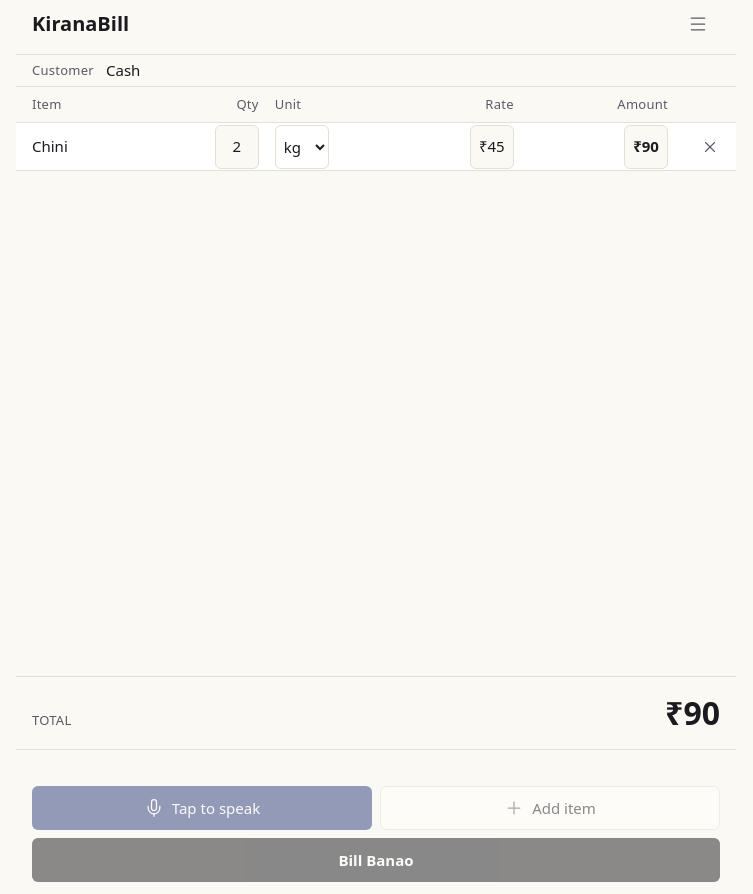
Test: KB-303 - editing a line › qty: tap, type, Enter - the amount and TOTAL follow (2 kilo chini -> 3 kg = ₹135)
Click the button named "Chini quantity" at [237, 146], box [215,124,259,168]
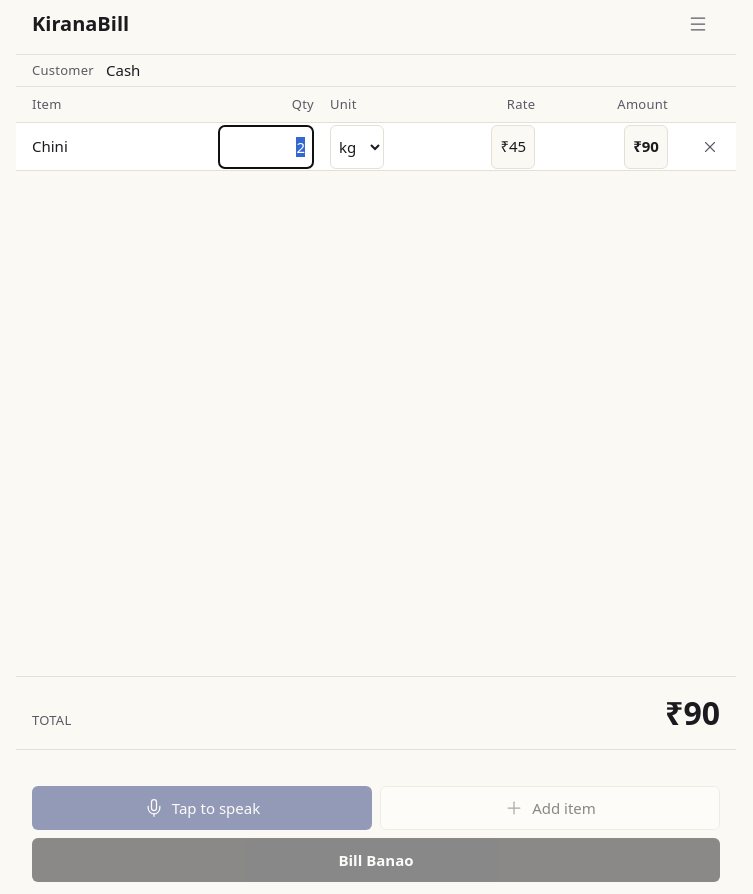
Replace the text in the field named "Chini quantity" with "3" at [266, 146], box [218,124,314,168]
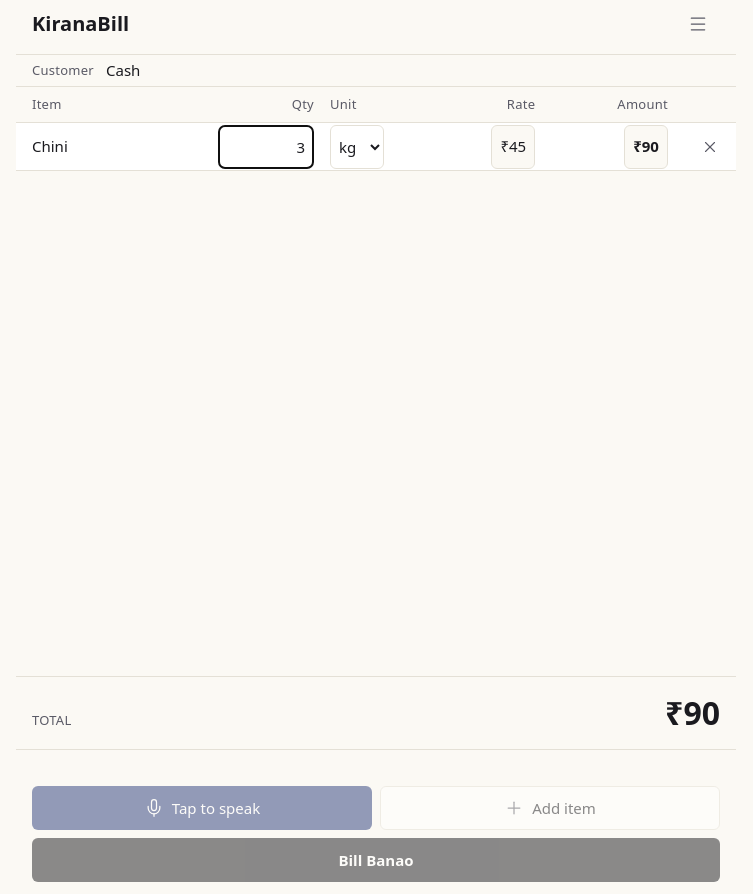
Press Enter in the field named "Chini quantity", box [218,124,314,168]
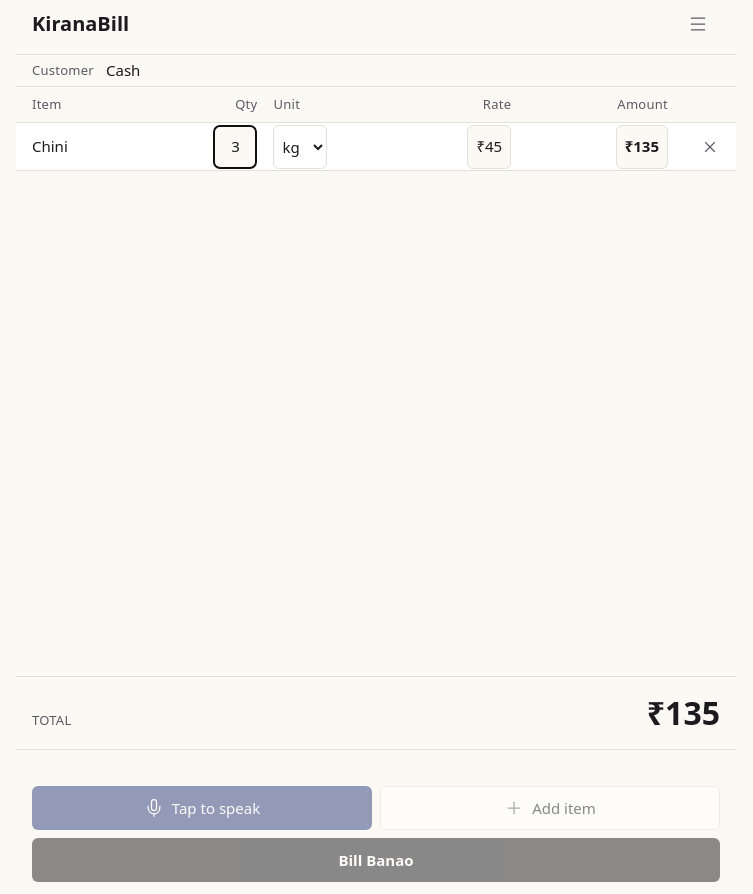
Expected: the button named "Chini quantity" reads "3", [214,124,258,168]
